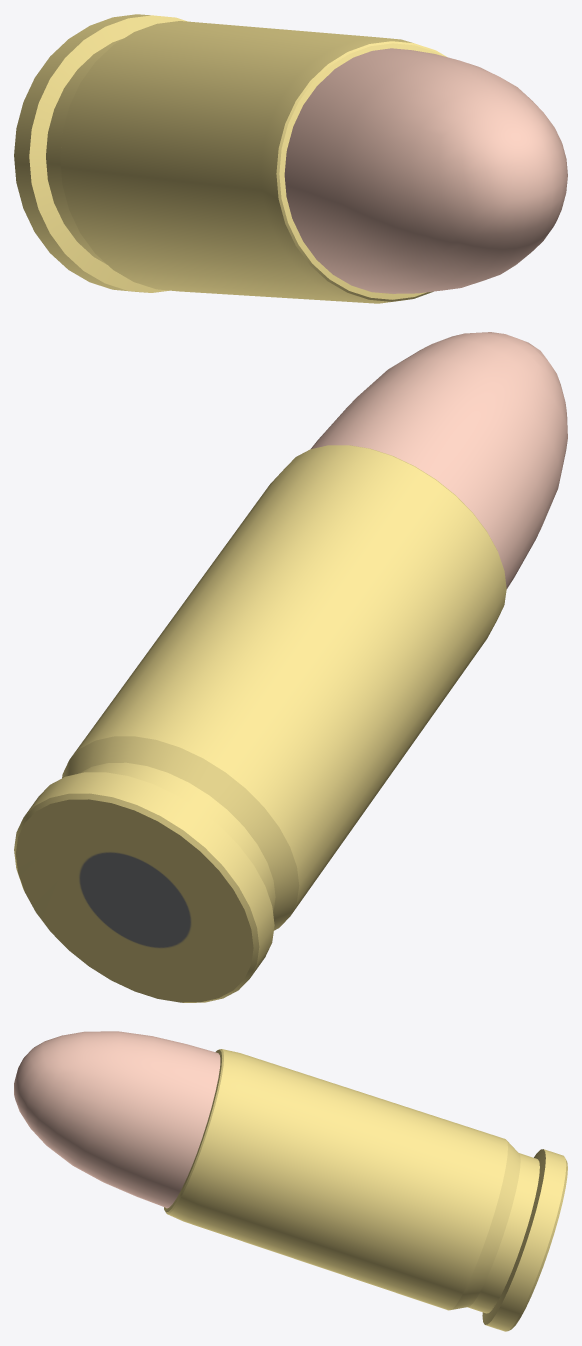
The model's file is mermi_pivoted.FBX.
The picture shows the model from 3 angles, top to bottom: view 1: azimuth 30°, elevation 25°; view 2: azimuth 150°, elevation 25°; view 3: azimuth 270°, elevation 25°; orthographic projection. The views are drawn at different scales.
Visible parts, largest first — view 1: 9mm_Bullet; view 2: 9mm_Bullet; view 3: 9mm_Bullet.
Part boxes in pixels (x1=…): 9mm_Bullet: x1=14, y1=14, x2=567, y2=303; 9mm_Bullet: x1=14, y1=332, x2=567, y2=1002; 9mm_Bullet: x1=14, y1=1031, x2=567, y2=1331.
Bounding box in the file's own units: 40.7 × 69.07 × 122.
Materials: 2 (2 with a texture image).
